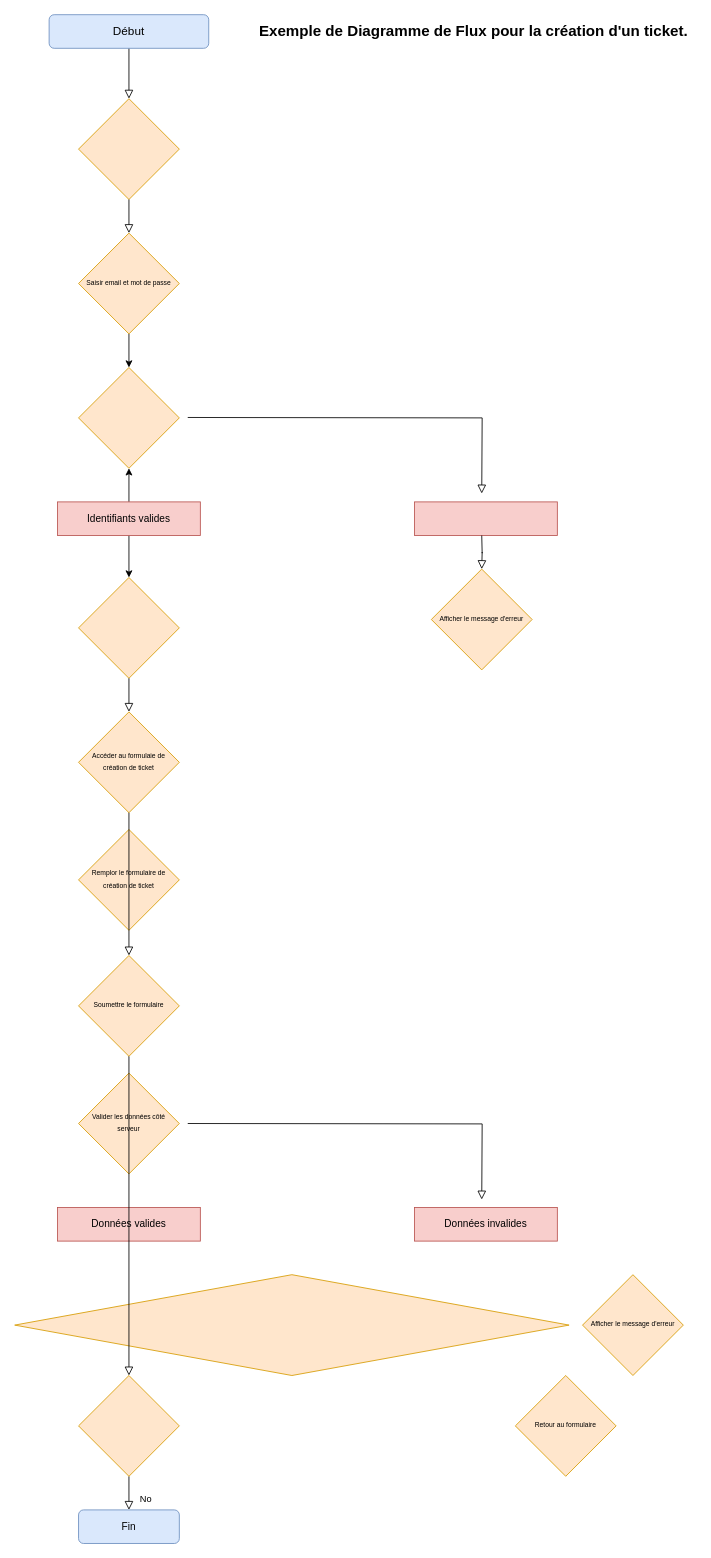
Image size: 711x1558. Some labels were removed from this diagram. Each missing label, with the centre of its shape:
Accéder à l'espace utilisateur: (x=128, y=627)
Accéder à la page de connexion: (x=128, y=149)
Confirmer la création du ticket: (x=128, y=1425)
Enregistrer le ticket dans la base de données: (x=291, y=1325)
Identifiants invalides: (x=485, y=518)
Valider les identifiants: (x=128, y=417)
